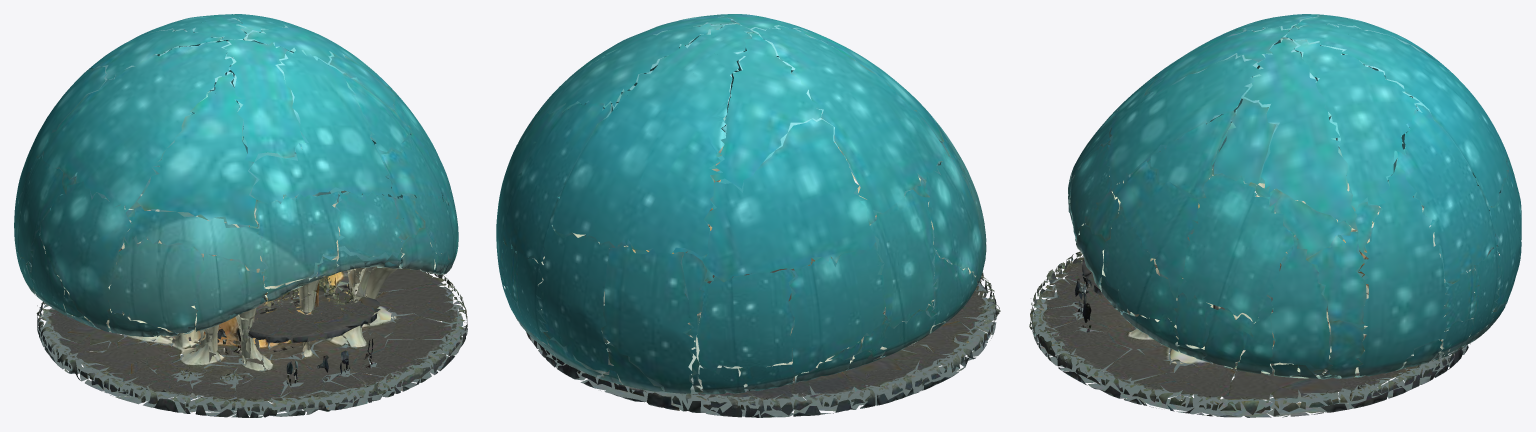
Rendered from sanct.glb.
The picture shows the model from 3 angles, left to right: view 1: azimuth 30°, elevation 25°; view 2: azimuth 150°, elevation 25°; view 3: azimuth 270°, elevation 25°; orthographic projection. The views are drawn at different scales.
Size of the model in its own units: 1.8 by 1.24 by 1.9.
Materials: 1 (1 with a texture image).
